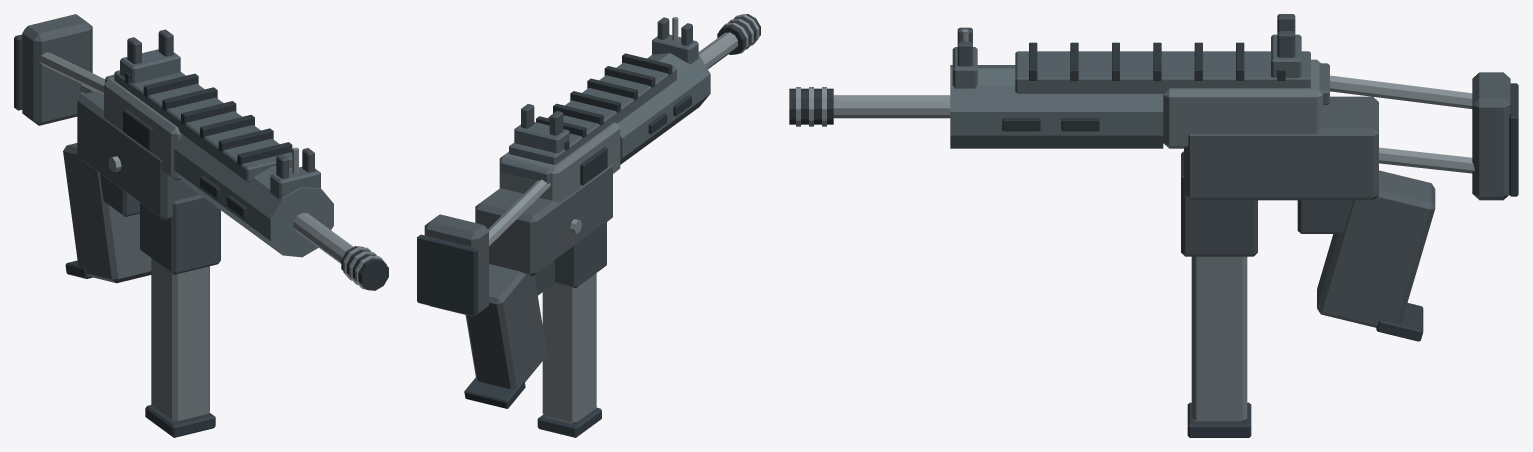
The model's file is FTF_Weapon_MPX_Compact_IronSights.glb.
3 views of the same model, side by side, from view 1: azimuth 30°, elevation 25°; view 2: azimuth 150°, elevation 25°; view 3: azimuth 270°, elevation 25° (orthographic). The views are drawn at different scales.
Visible parts, largest first — view 1: StaticVisual; view 2: StaticVisual; view 3: StaticVisual.
Boxes of the visible parts, left/top/right/bottom form: StaticVisual: left=14, top=14, right=388, bottom=437; StaticVisual: left=417, top=14, right=760, bottom=437; StaticVisual: left=789, top=14, right=1518, bottom=437.
Size of the model in its own units: 0.1595 by 0.7525 by 1.23.
